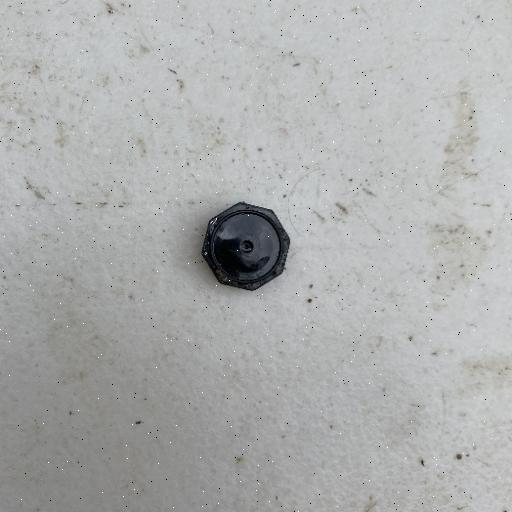Plastic: (198, 199, 292, 293)
